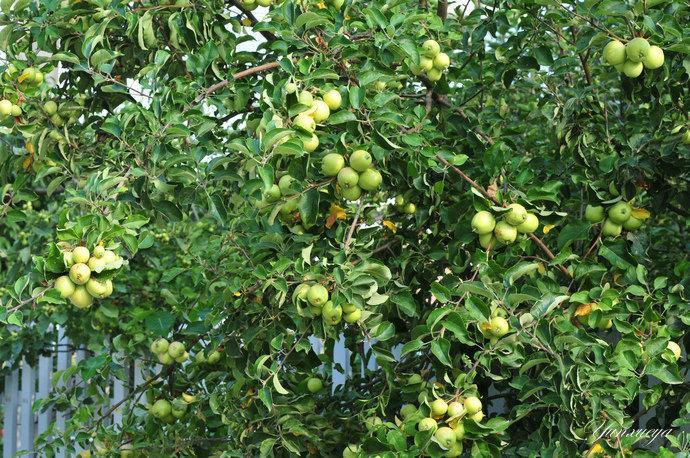apple: (470, 210, 496, 234), (305, 283, 329, 307), (321, 153, 345, 176), (359, 168, 383, 191), (504, 202, 527, 226), (321, 299, 342, 325), (349, 149, 372, 172), (643, 45, 665, 69), (620, 54, 643, 76), (67, 262, 90, 284), (69, 284, 92, 306), (627, 38, 650, 60), (603, 41, 626, 63), (495, 220, 517, 243), (88, 276, 111, 298), (52, 275, 75, 297), (609, 204, 631, 226), (600, 221, 622, 243), (336, 166, 357, 189), (150, 398, 173, 419), (340, 302, 361, 323), (518, 210, 538, 232), (167, 340, 187, 361), (435, 426, 455, 447), (311, 100, 330, 122), (323, 90, 342, 110), (69, 246, 90, 264), (421, 39, 440, 58), (585, 203, 604, 222), (491, 316, 509, 335), (88, 257, 108, 274), (447, 402, 464, 420), (430, 398, 447, 416), (465, 396, 482, 414), (418, 417, 436, 433), (307, 377, 323, 393), (434, 52, 450, 68), (417, 57, 432, 74)
